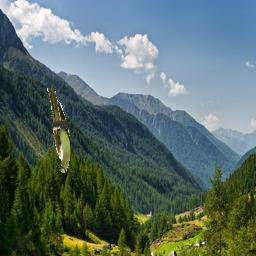Cuckoo: (48, 89, 71, 174)
